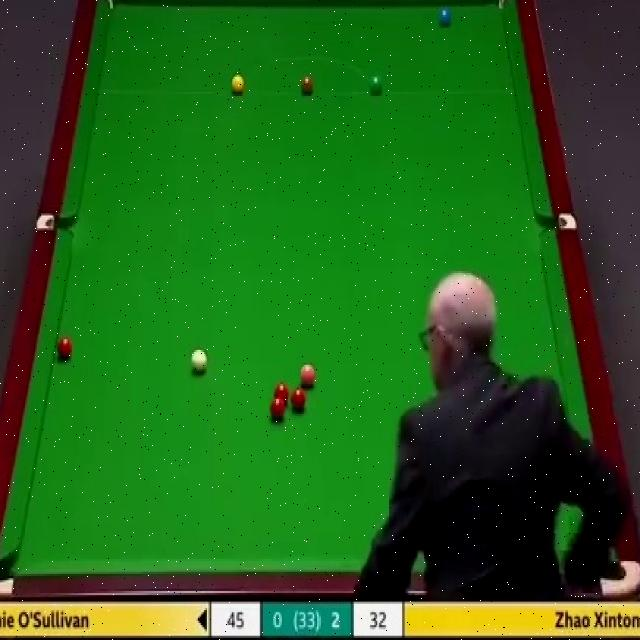blue-ball: (438, 7, 452, 26)
brown-ball: (299, 73, 315, 96)
green-ball: (367, 75, 383, 96)
pink-ball: (298, 362, 316, 388)
red-ball: (267, 397, 287, 423), (56, 337, 74, 361), (290, 387, 307, 412), (274, 382, 290, 404)
white-ball: (188, 346, 207, 375)
yellow-ball: (230, 72, 245, 95)
